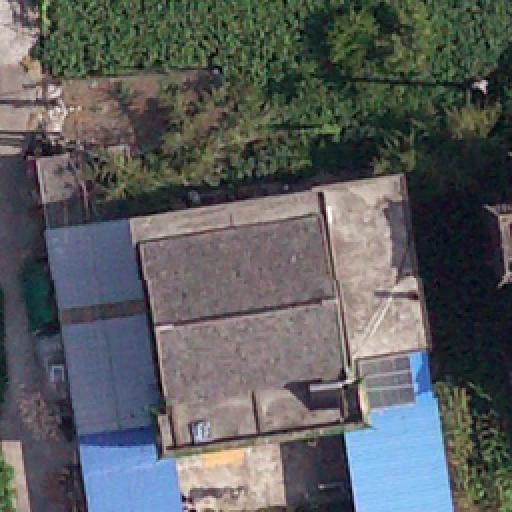solar-panel: (355, 349, 419, 412)
